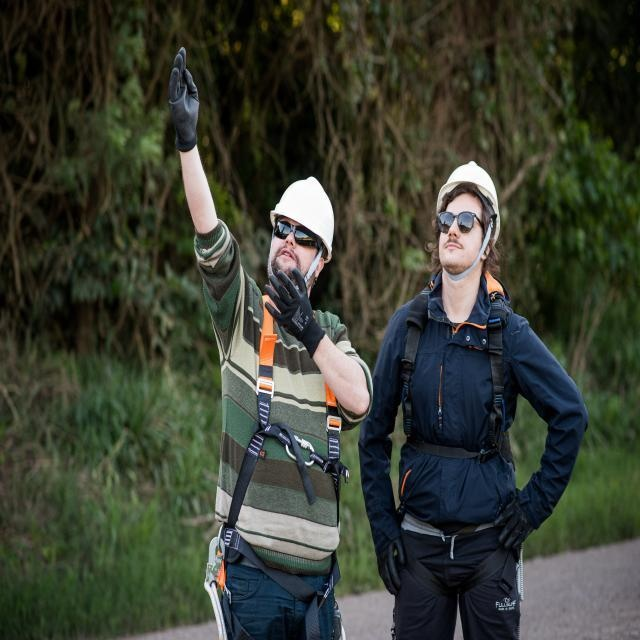Arnes_seguridad: (202, 283, 352, 640), (393, 285, 528, 602)
